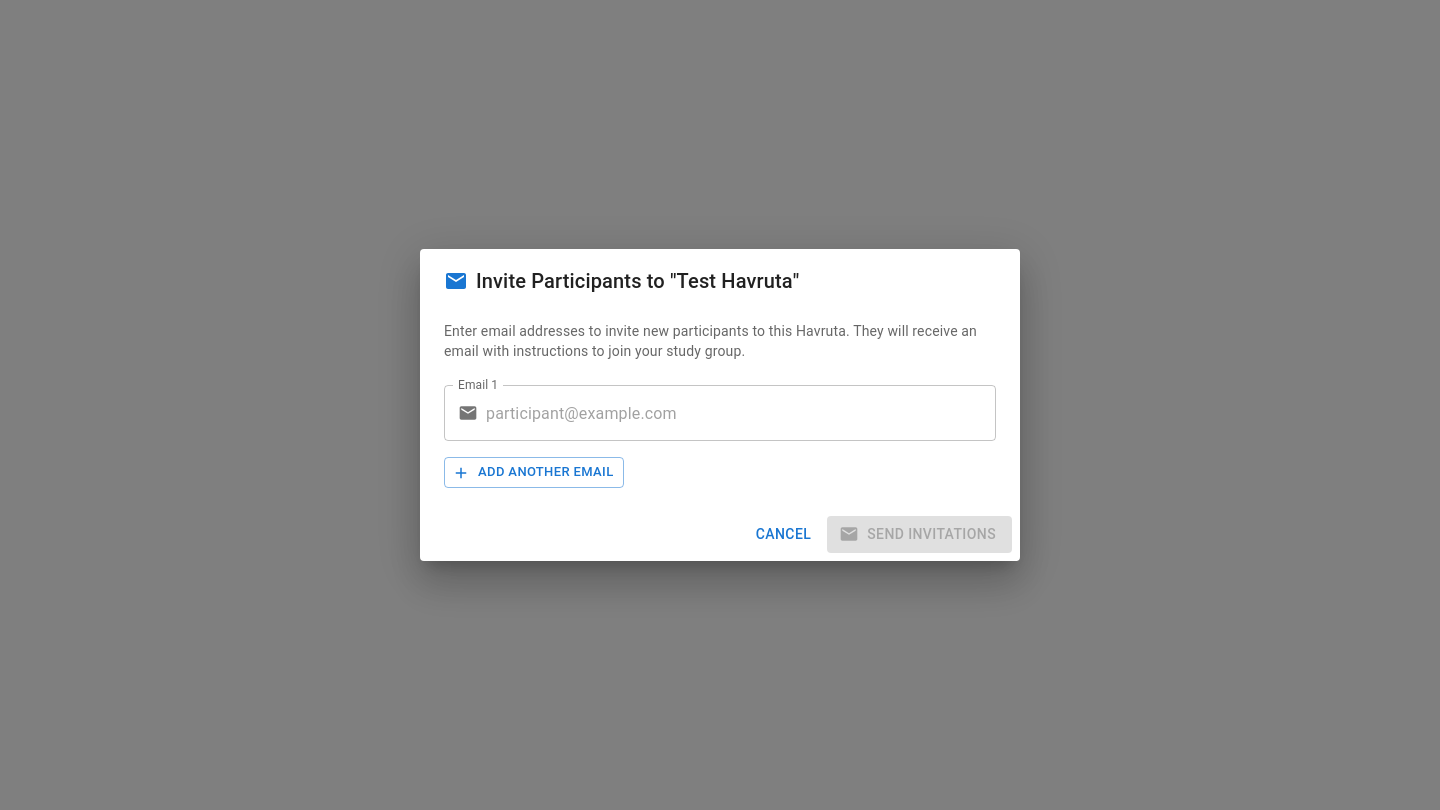
Test case: ParticipantInvitationDialog › validates email format
Enter invalid email
Type "invalid-email" into the field labelled "Email 1" at (741, 413), box [486,385,996,441]
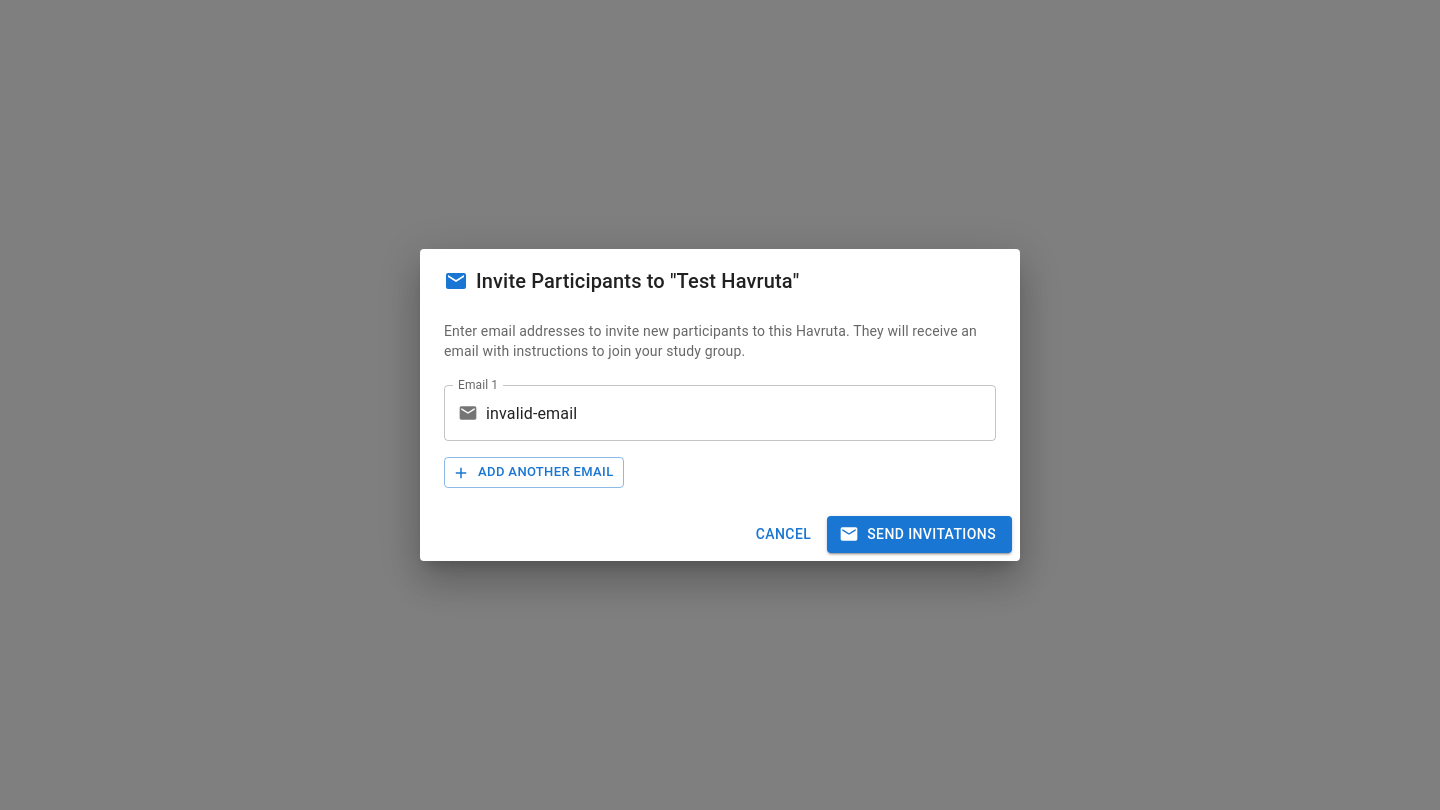
Try to send invitations
Click the button "Send Invitations" at (920, 534), box [827,516,1012,553]
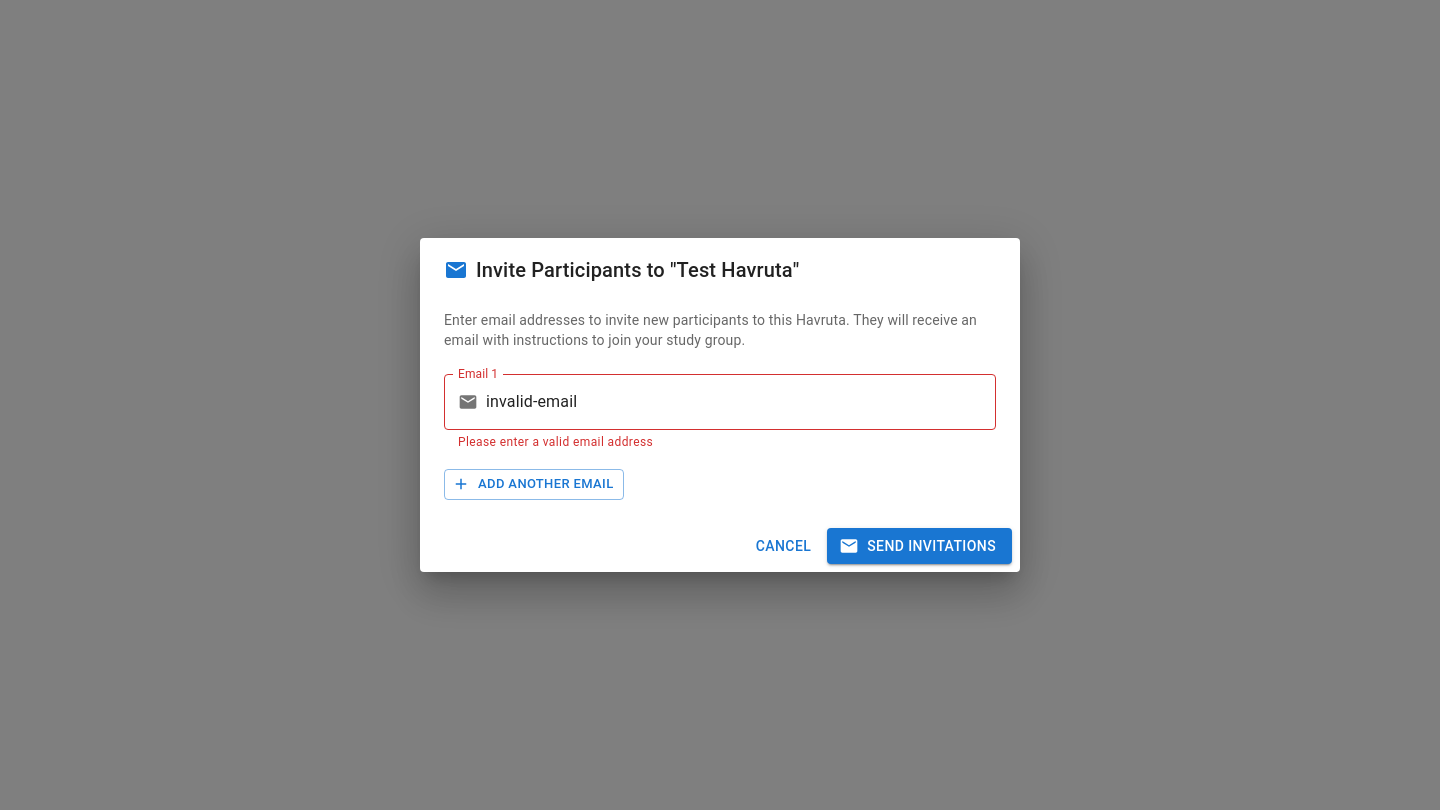
Result: the text "Please enter a valid email address" is shown at [458,435,653,449]
